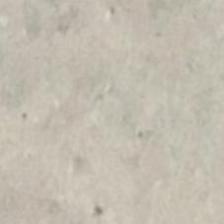Non_Crack: (16, 14, 208, 217)
